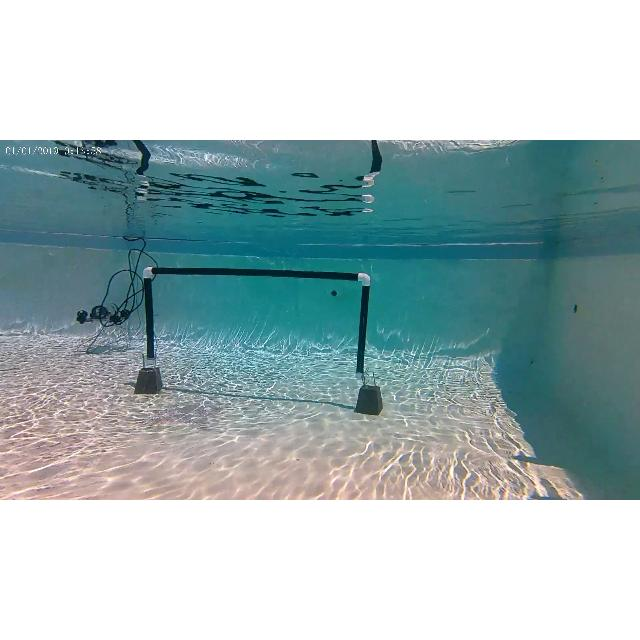prequal gate: (144, 267, 366, 378)
prequal gate leg l: (135, 266, 165, 394)
prequal gate leg r: (346, 264, 386, 418)
